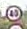limite 40: (4, 4, 23, 22)
